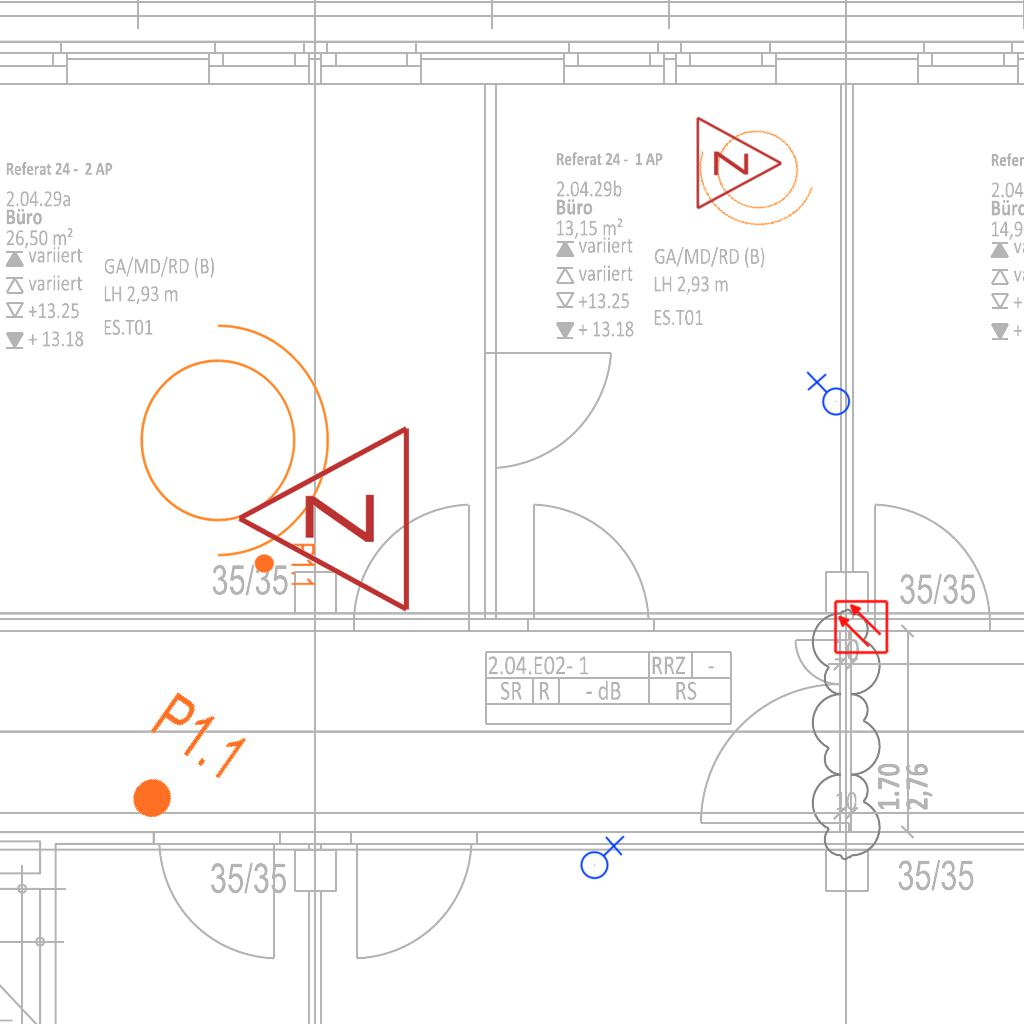Downlight_LED_Einbauleuchten_Flur: (103, 686, 254, 846), (253, 542, 317, 588)
Elektroanschluss_allgemein_230V_Geraeteanschlussdose_230V: (576, 833, 625, 880), (804, 371, 851, 420)
RMO_Rauchmelder_optischer: (833, 599, 889, 655)
Scheinwerfer_fuer_Alarmbeleuchtung: (115, 302, 340, 566), (678, 101, 840, 249)
Zimmersignalleuchte: (224, 423, 424, 619), (689, 113, 789, 211)
